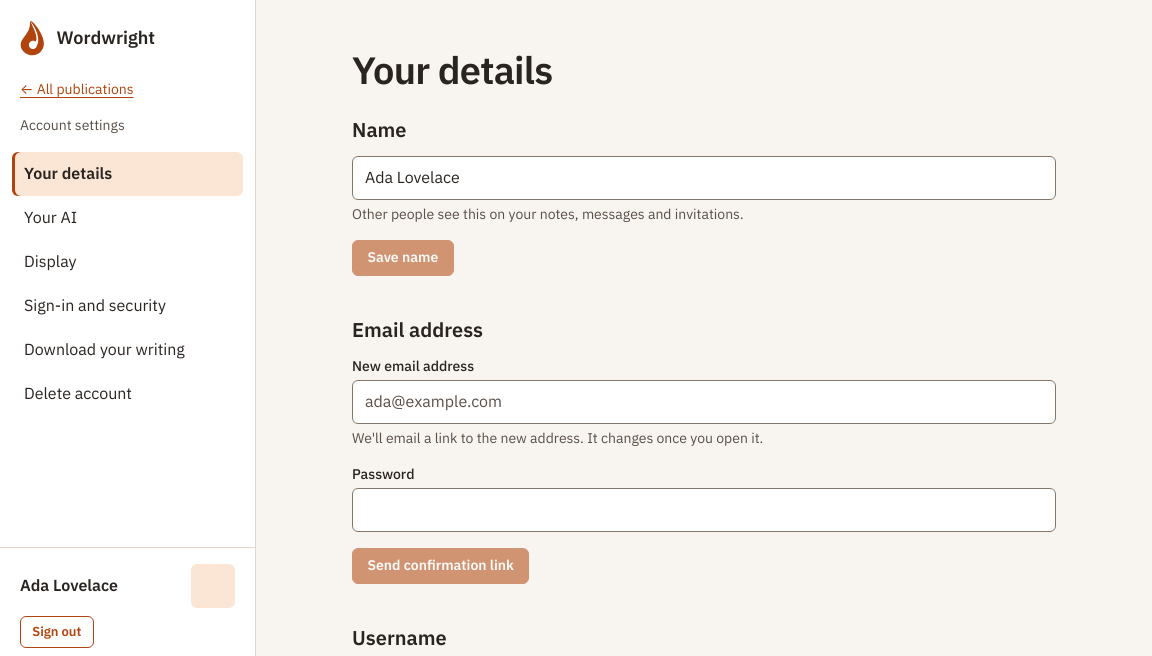
Test: your name on the account page › saves the new name and shows it everywhere the page does
Replace the text in the 1st field named "Name" with "Ada King" at (704, 178), box [352,156,1056,200]
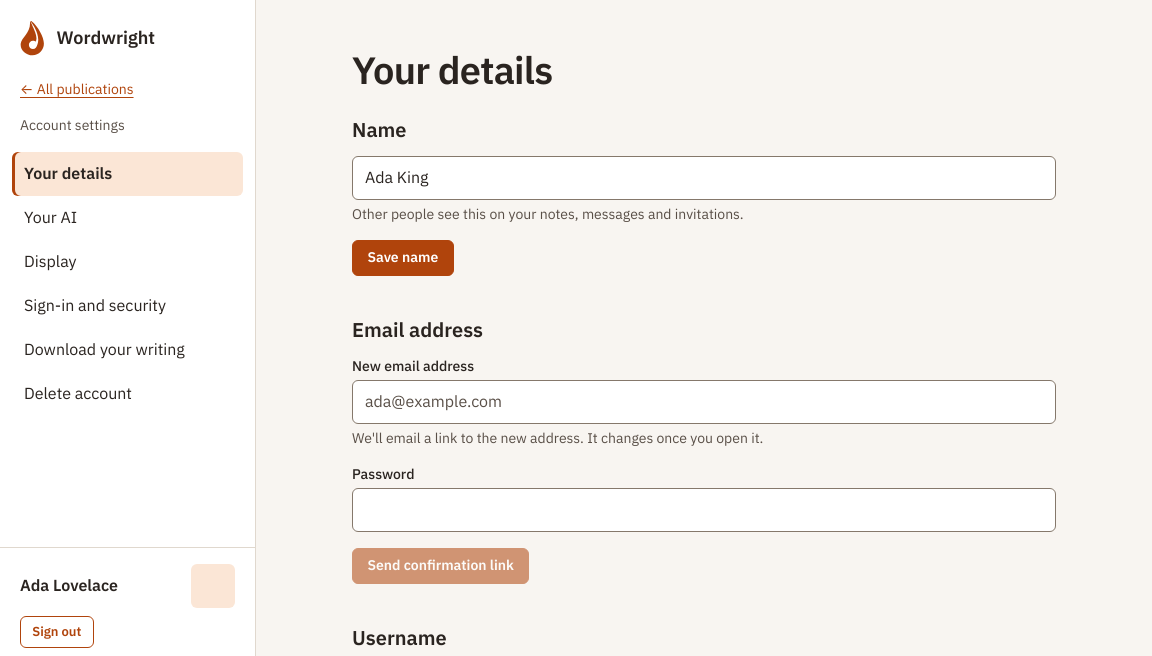
Click the button "Save name" at (403, 258), box [352,240,454,276]
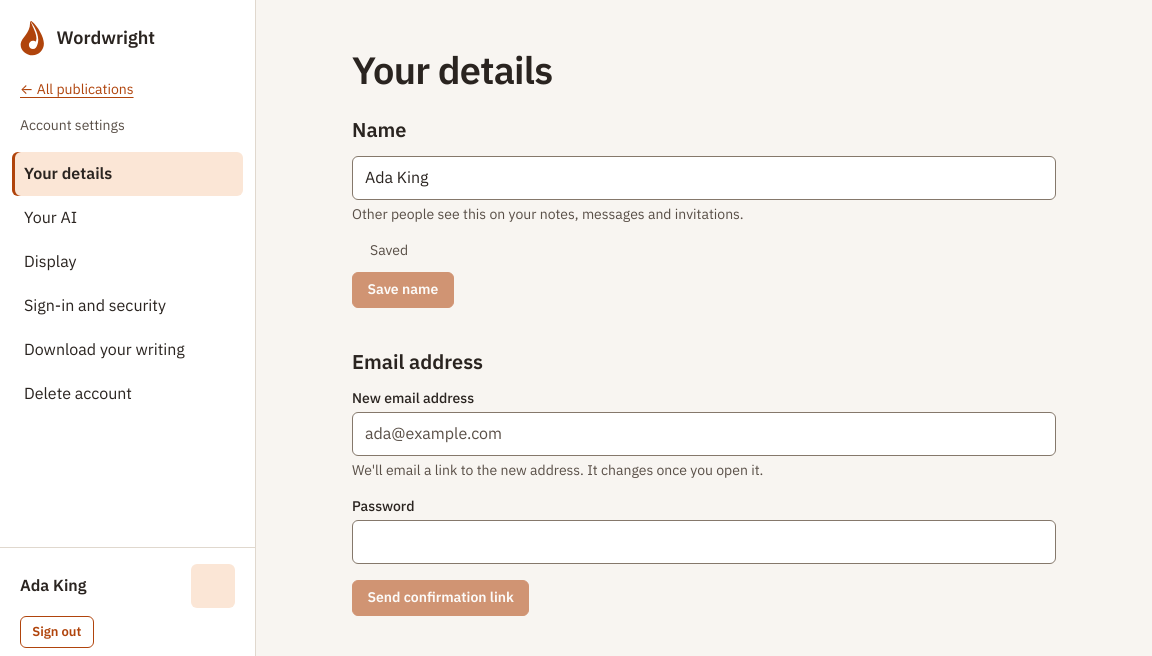
Result: the text "Saved" is shown at [352,241,408,259]
Result: the text "Ada King" is shown at [20,573,86,599]
Result: the button "Save name" is disabled at [352,272,454,308]
